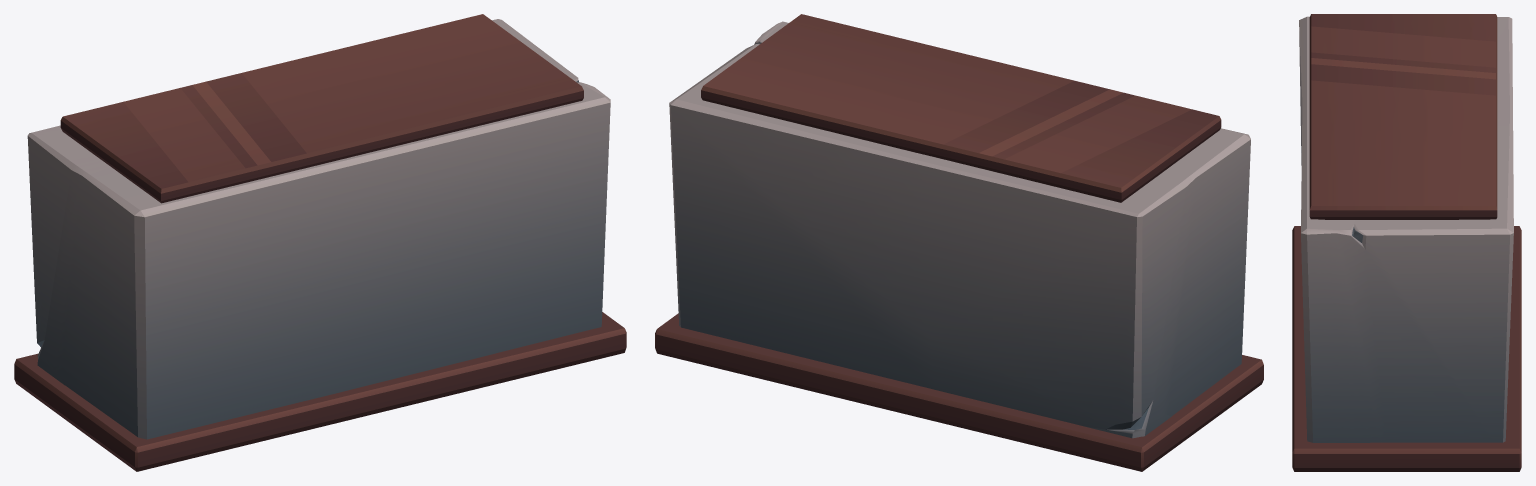
Rendered from DisplayCase_High_1x2_Classic_A.fbx.
The picture shows the model from 3 angles, left to right: view 1: azimuth 30°, elevation 25°; view 2: azimuth 150°, elevation 25°; view 3: azimuth 270°, elevation 25°; orthographic projection. The views are drawn at different scales.
Visible parts, largest first — view 1: DisplayCase_High_2x1_Classic_A; view 2: DisplayCase_High_2x1_Classic_A; view 3: DisplayCase_High_2x1_Classic_A.
Boxes of the visible parts, box(x1,y1,x2,y2) form: DisplayCase_High_2x1_Classic_A: box(14, 14, 626, 471); DisplayCase_High_2x1_Classic_A: box(655, 14, 1263, 471); DisplayCase_High_2x1_Classic_A: box(1292, 14, 1521, 471).
Bounding box in the file's own units: 1.92 × 1 × 0.8295.
